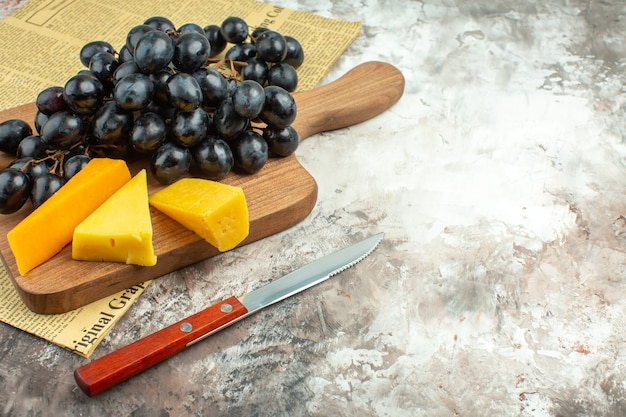knife: (74, 229, 385, 398)
